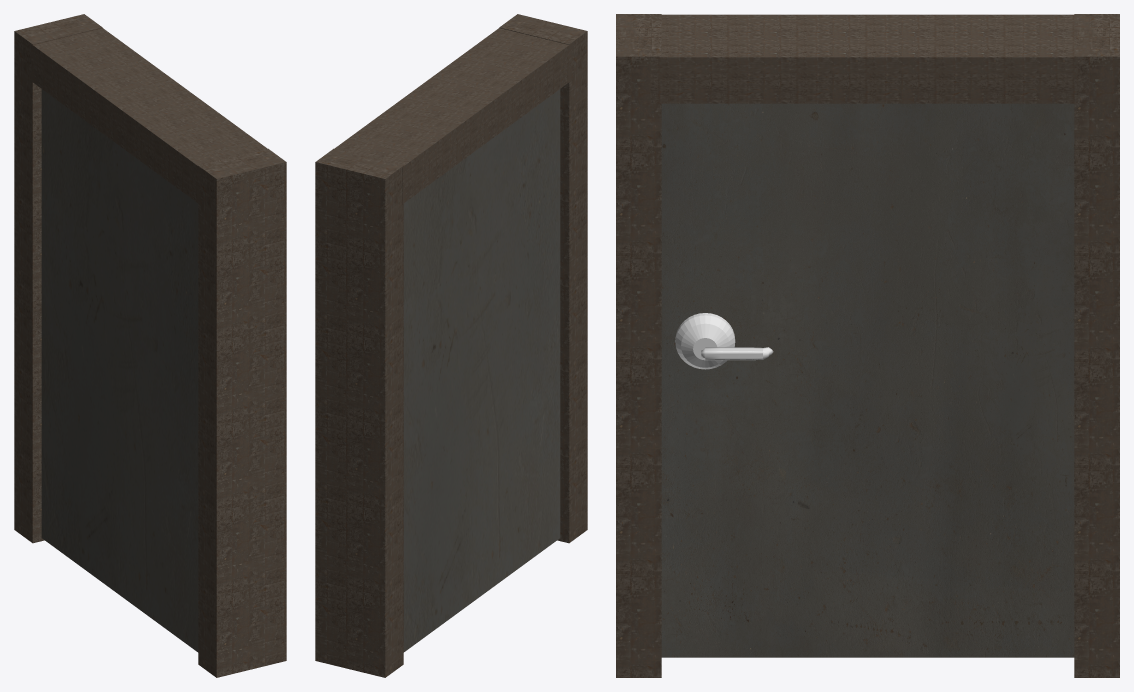
Rendered from Lab_Door.fbx.
3 views of the same model, side by side, from view 1: azimuth 30°, elevation 25°; view 2: azimuth 150°, elevation 25°; view 3: azimuth 270°, elevation 25° (orthographic). The views are drawn at different scales.
Visible parts, largest first — view 1: Cube, Cube.005, Cube.003, Cube.002; view 2: Cube, Cube.002, Cube.003, Cube.005; view 3: Cube, Cube.003, Cube.002, Cube.005, Cylinder, Cube.004.
Part boxes in pixels (x1,y1,x2,y2): Cube: [41, 89, 198, 652]; Cube.005: [198, 148, 286, 677]; Cube.003: [31, 28, 267, 206]; Cube.002: [14, 14, 102, 543]; Cube: [403, 89, 560, 652]; Cube.002: [315, 148, 403, 677]; Cube.003: [334, 28, 573, 204]; Cube.005: [499, 14, 587, 543]; Cube: [661, 103, 1074, 657]; Cube.003: [650, 14, 1078, 103]; Cube.002: [1074, 14, 1119, 677]; Cube.005: [616, 14, 661, 677]; Cylinder: [675, 313, 735, 369]; Cube.004: [701, 347, 773, 360].
Bounding box in the file's own units: 133 × 902 × 663.
3 materials, 2 textured.
